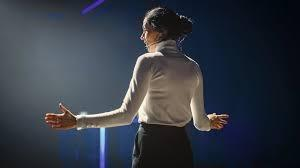FallenBody: (42, 4, 232, 166)
